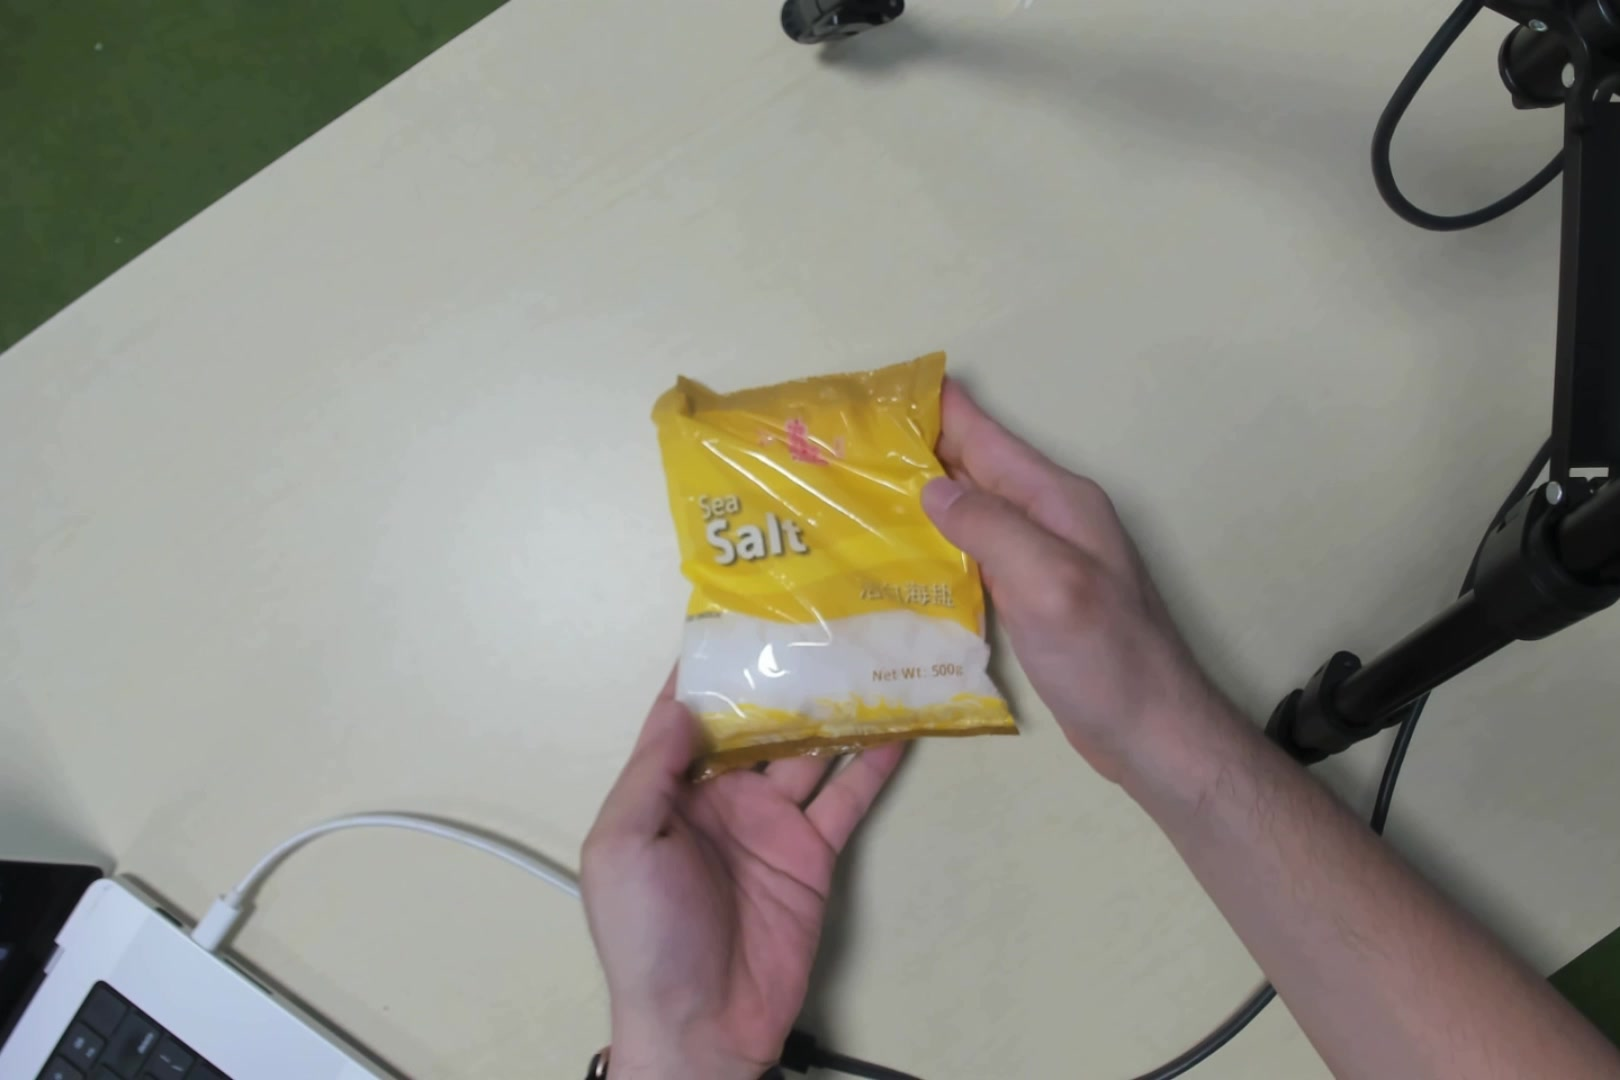Salt_500-599g_Halal_NonHealthy: (659, 370, 993, 745)
